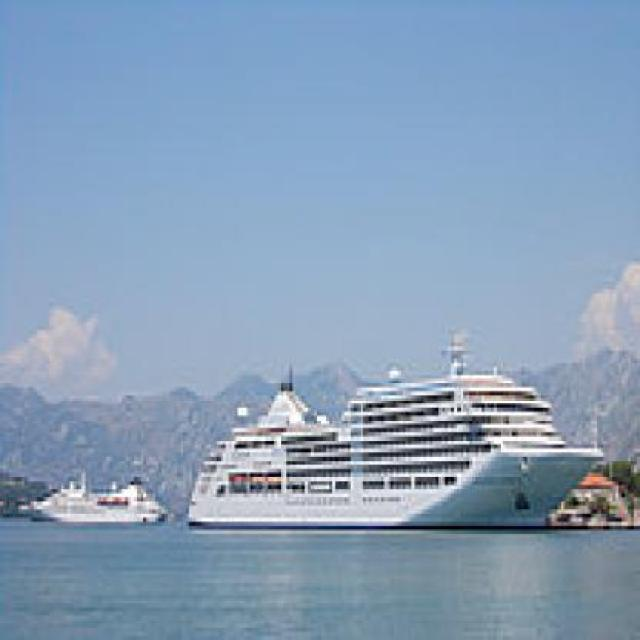cruise: (180, 319, 614, 539)
